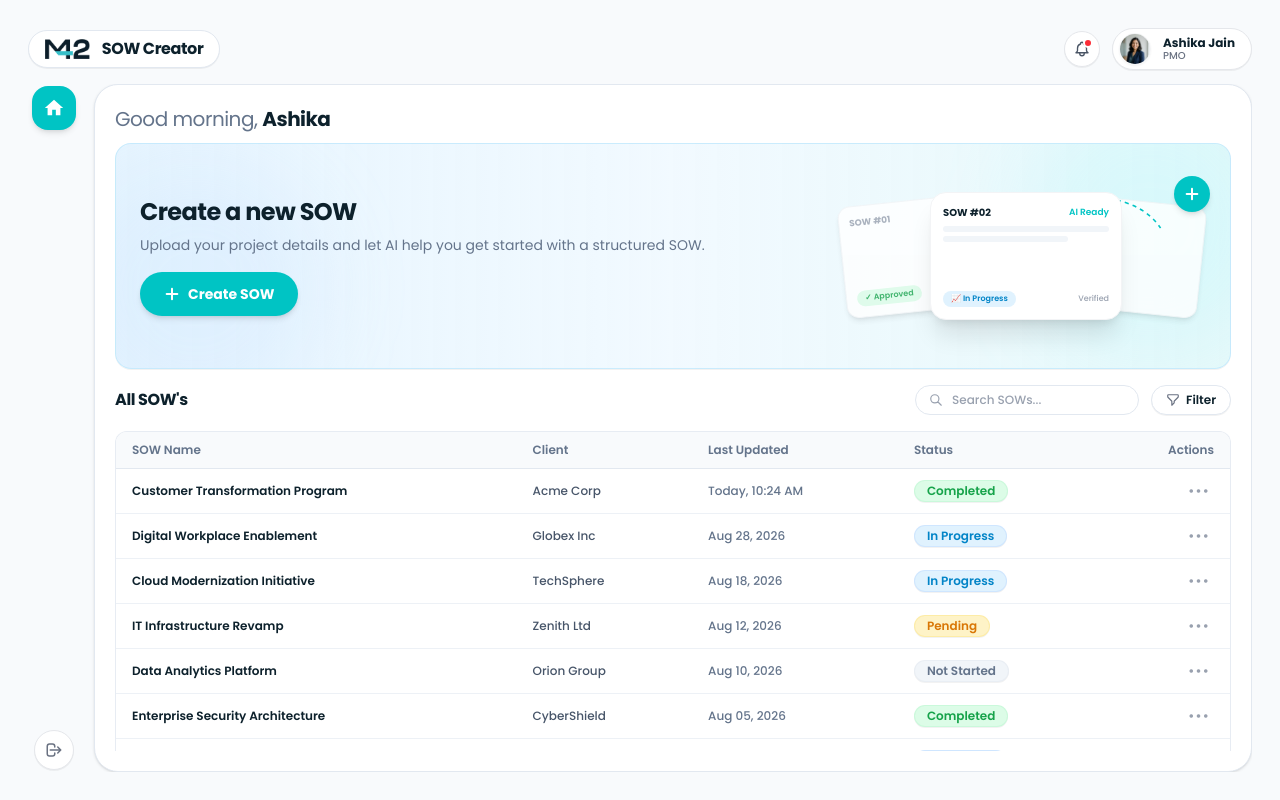
DashboardScreen Organism › filters SOWs when search query is entered
This screenshot has width=1280, height=800.
Step 1. Type "Acme" into the field with test id "search-sows-input" → (1027, 400), box [915,385,1139,415]
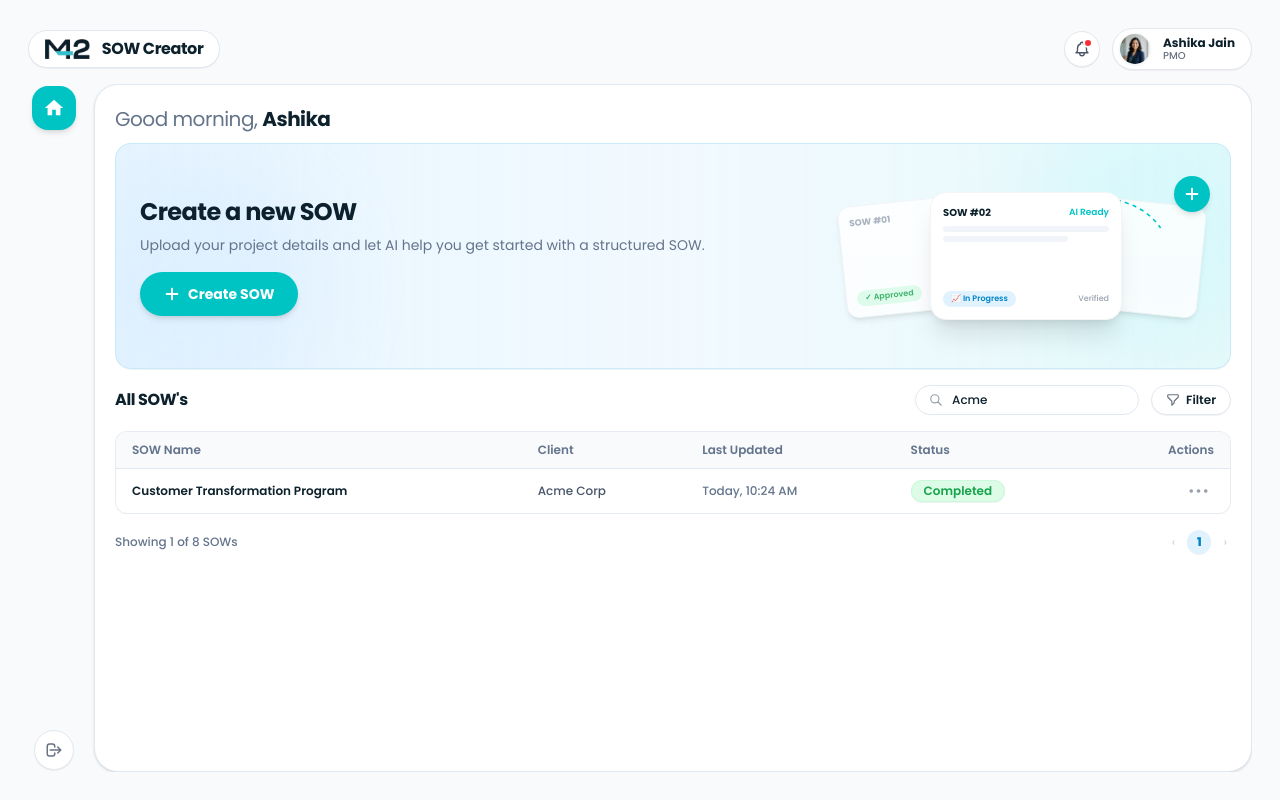
Expected: the text "Customer Transformation Program" is shown, [116,468,522,513]
Result: the text "Digital Workplace Enablement" is gone
